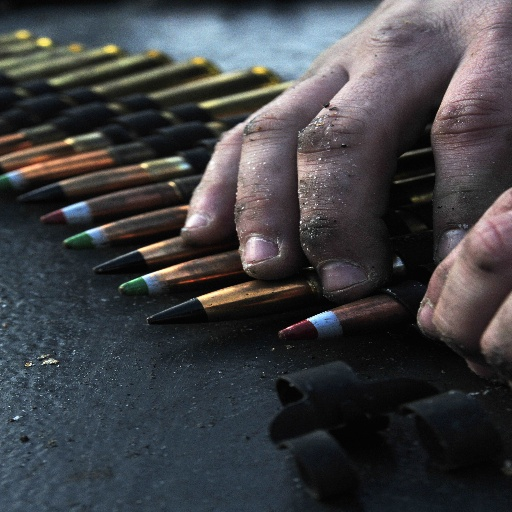hand: (177, 0, 511, 302), (421, 195, 510, 372)
